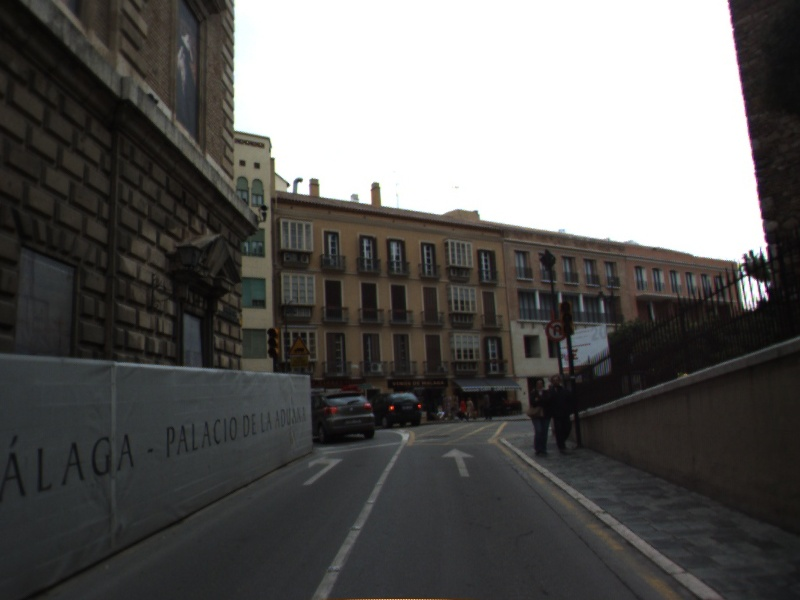LEFT: (300, 453, 346, 487)
STRAIGHT: (439, 446, 478, 479)
